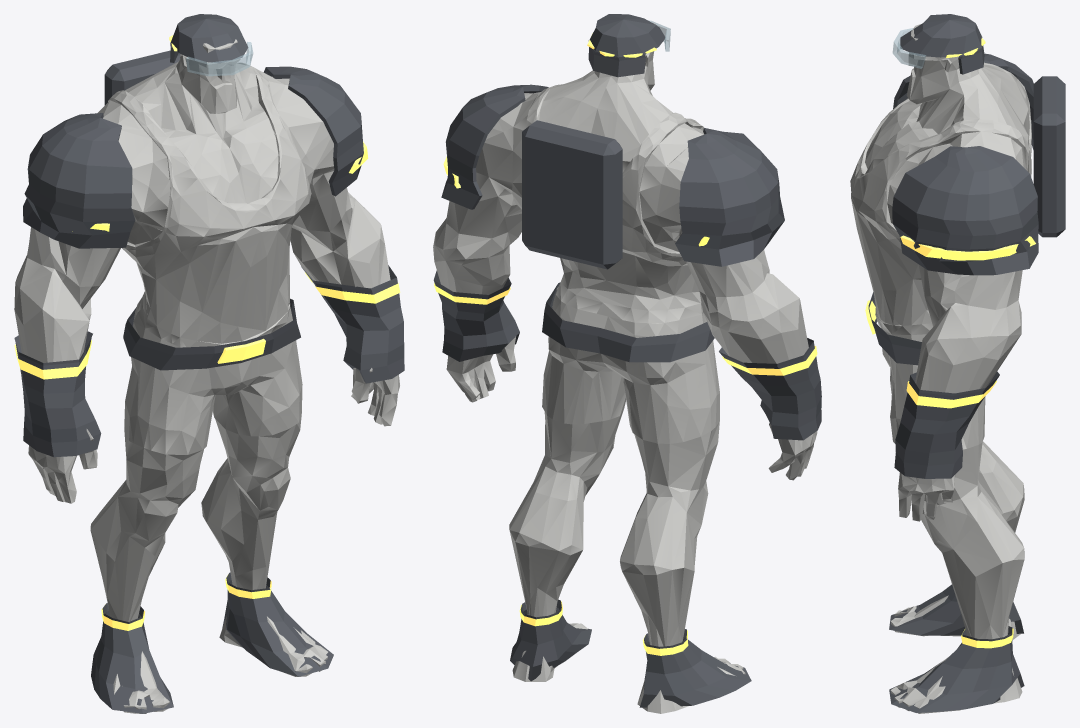
Rendered from gear-red.glb.
3 views of the same model, side by side, from view 1: azimuth 30°, elevation 25°; view 2: azimuth 150°, elevation 25°; view 3: azimuth 270°, elevation 25° (orthographic).
Parts seen in each view (by area): view 1: bruiser, ShoulderPad_R, Bracer_R, Bracer_L, Boot_L, ShoulderPad_L, Boot_R, Belt, Helmet, Backpack, Helmet_Visor, Bracer_Light_L (+2 smaller); view 2: bruiser, Backpack, ShoulderPad_R, ShoulderPad_L, Bracer_R, Boot_R, Belt, Bracer_L, Boot_L, Helmet, Helmet_CheekGuard, Bracer_Light_R; view 3: bruiser, ShoulderPad_L, Bracer_L, Boot_L, Backpack, Helmet, Boot_R, ShoulderPad_Light_L, Belt, ShoulderPad_R, Bracer_Light_L, Helmet_Visor (+2 smaller).
Part boxes in pixels (<box>): bruiser: <box>14,39,399,713</box>; ShoulderPad_R: <box>23,113,135,248</box>; Bracer_R: <box>14,331,101,457</box>; Bracer_L: <box>301,265,404,383</box>; Boot_L: <box>222,572,333,676</box>; ShoulderPad_L: <box>263,66,363,196</box>; Boot_R: <box>91,603,173,713</box>; Belt: <box>123,298,300,370</box>; Helmet: <box>170,14,248,63</box>; Backpack: <box>104,50,180,105</box>; Helmet_Visor: <box>186,42,253,76</box>; Bracer_Light_L: <box>305,272,400,303</box>; bruiser: <box>433,23,817,713</box>; Backpack: <box>522,120,622,269</box>; ShoulderPad_R: <box>675,128,784,266</box>; ShoulderPad_L: <box>441,84,548,209</box>; Bracer_R: <box>719,338,821,440</box>; Boot_R: <box>639,629,751,707</box>; Belt: <box>542,282,714,362</box>; Bracer_L: <box>433,270,519,361</box>; Boot_L: <box>510,599,591,681</box>; Helmet: <box>589,14,665,57</box>; Helmet_CheekGuard: <box>588,40,645,77</box>; Bracer_Light_R: <box>722,346,817,375</box>; bruiser: <box>850,24,1031,713</box>; ShoulderPad_L: <box>892,146,1038,275</box>; Bracer_L: <box>894,371,999,478</box>; Boot_L: <box>889,626,1024,712</box>; Backpack: <box>1033,76,1065,237</box>; Helmet: <box>900,14,981,57</box>; Boot_R: <box>889,584,1023,635</box>; ShoulderPad_Light_L: <box>900,235,1035,260</box>; Belt: <box>868,292,921,365</box>; ShoulderPad_R: <box>893,53,1033,149</box>; Bracer_Light_L: <box>906,381,996,408</box>; Helmet_Visor: <box>892,28,926,68</box>.
Bounding box in the file's own units: 1.19 × 2.01 × 0.61.
